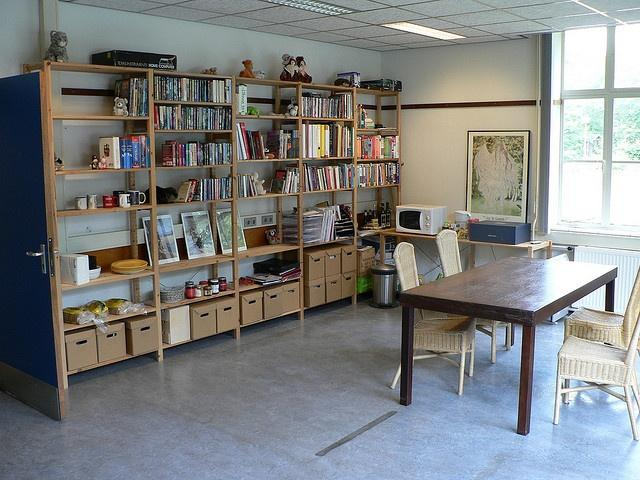Kursi: (388, 240, 474, 395), (552, 310, 639, 441), (563, 263, 639, 345)
Meja: (397, 255, 618, 436)
Rak: (43, 59, 161, 389), (149, 67, 238, 359), (232, 75, 303, 338), (300, 82, 355, 321), (354, 86, 400, 238)
